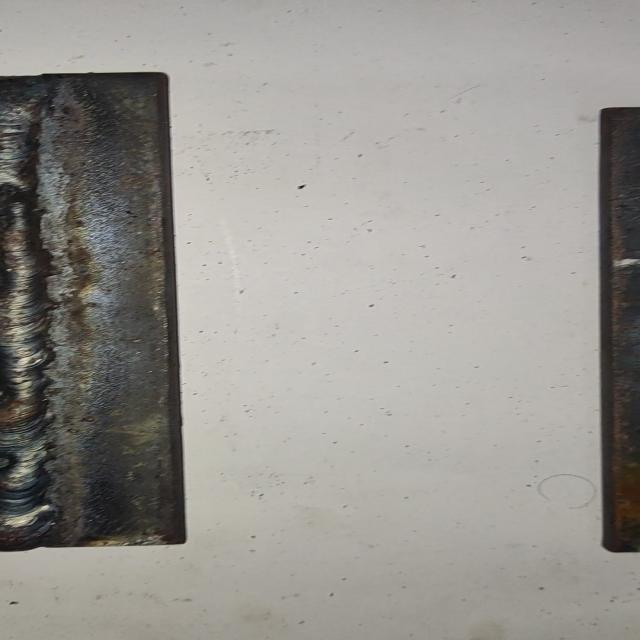Good Weld: (0, 83, 55, 544)
